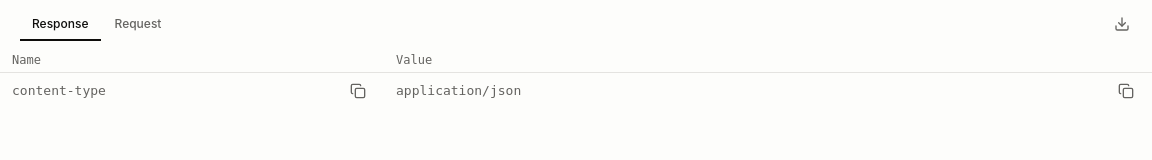
Test: HeadersView › shows response headers by default and switches to request headers
Expected: the tab "Response" is shown, [19,12,102,36]
Expected: the text "content-type" is shown, [12,82,106,100]
Click the tab "Request" at point(138, 24), box [102,12,174,36]
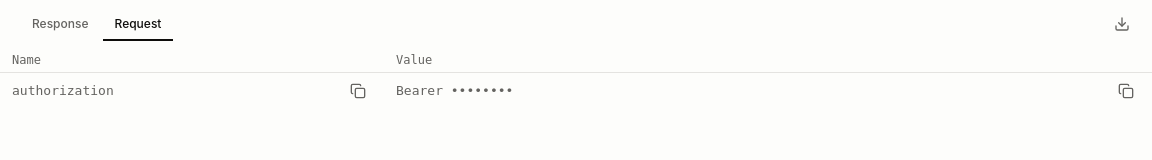
Expected: the text "authorization" is shown, [12,82,114,100]
